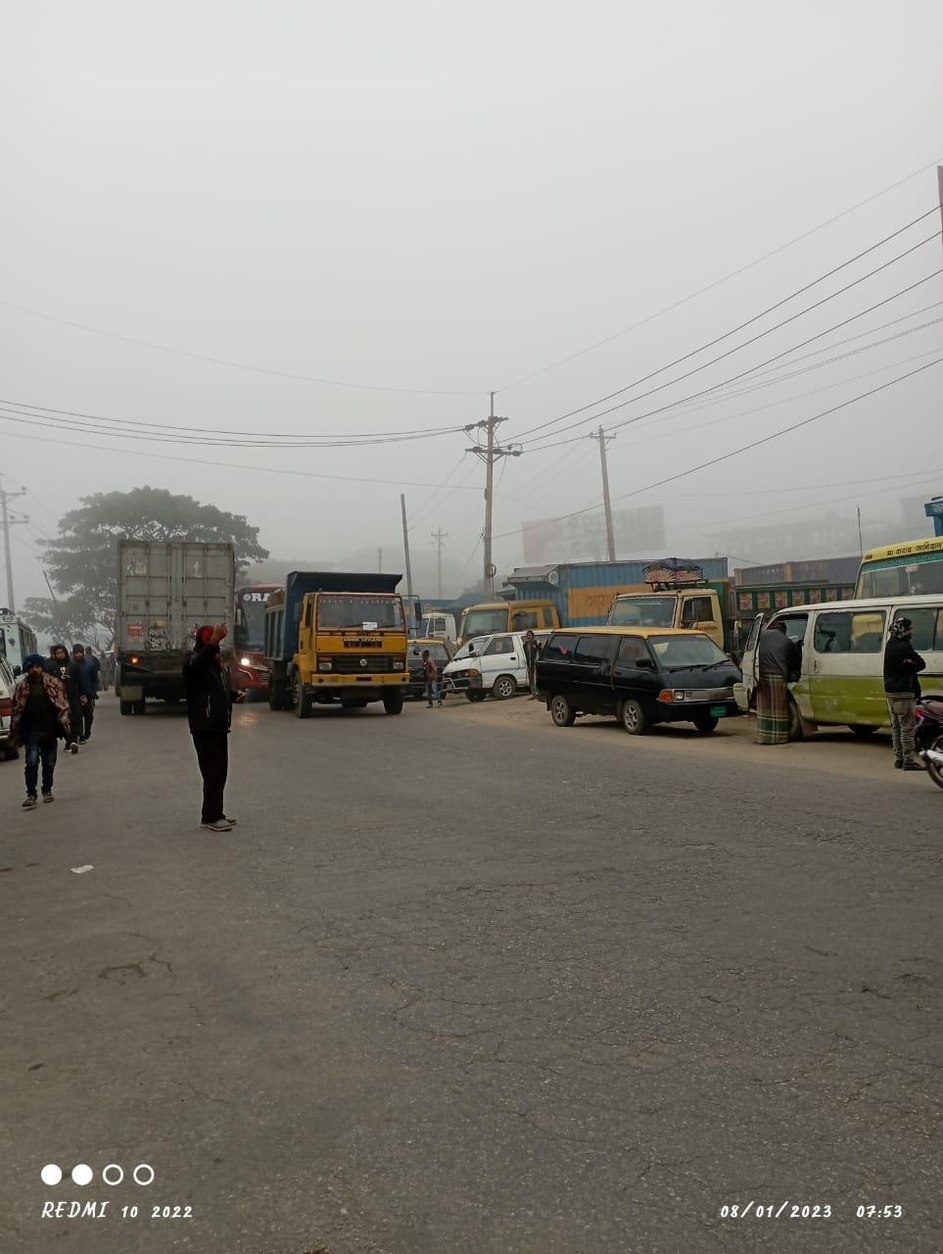Car: (722, 591, 943, 736), (530, 622, 741, 732), (445, 631, 526, 700)
Truck: (260, 564, 413, 725), (108, 529, 243, 700)
